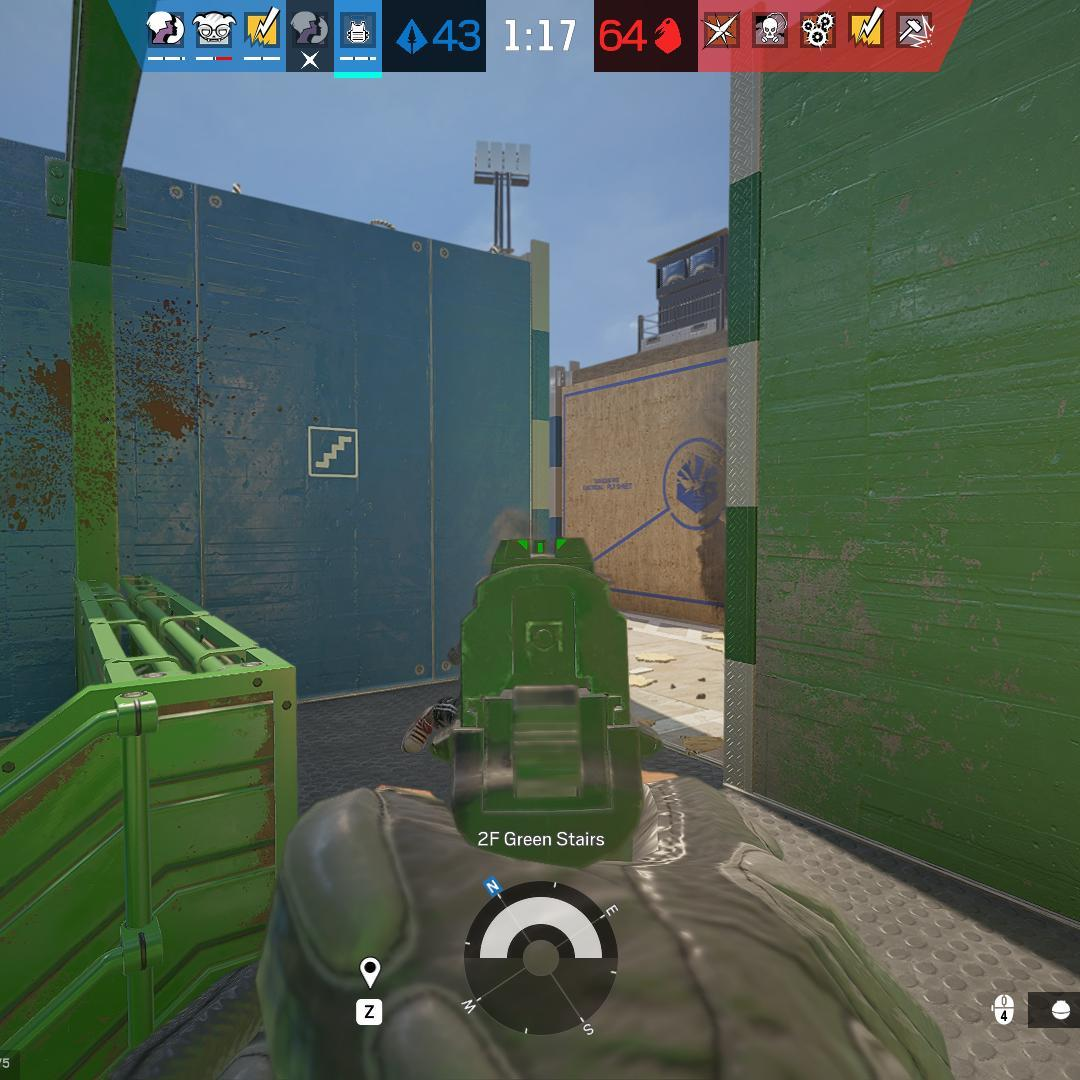Character: (402, 687, 462, 764)
